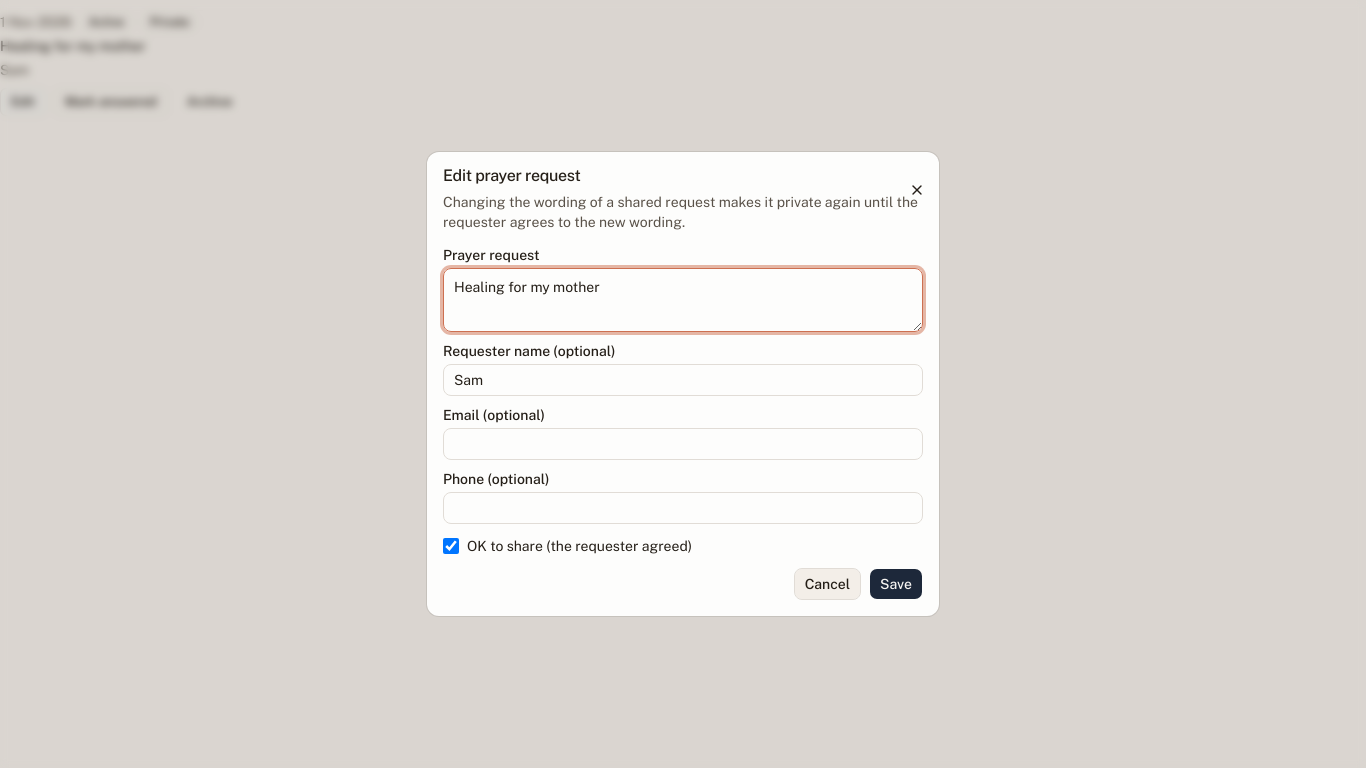
it: PrayerRequestList › submits the revision captured on open, not a newer row prop
Earlier steps of the test are not shown.
Click the button "Save".
click(896, 584)  # box [869,568,923,600]
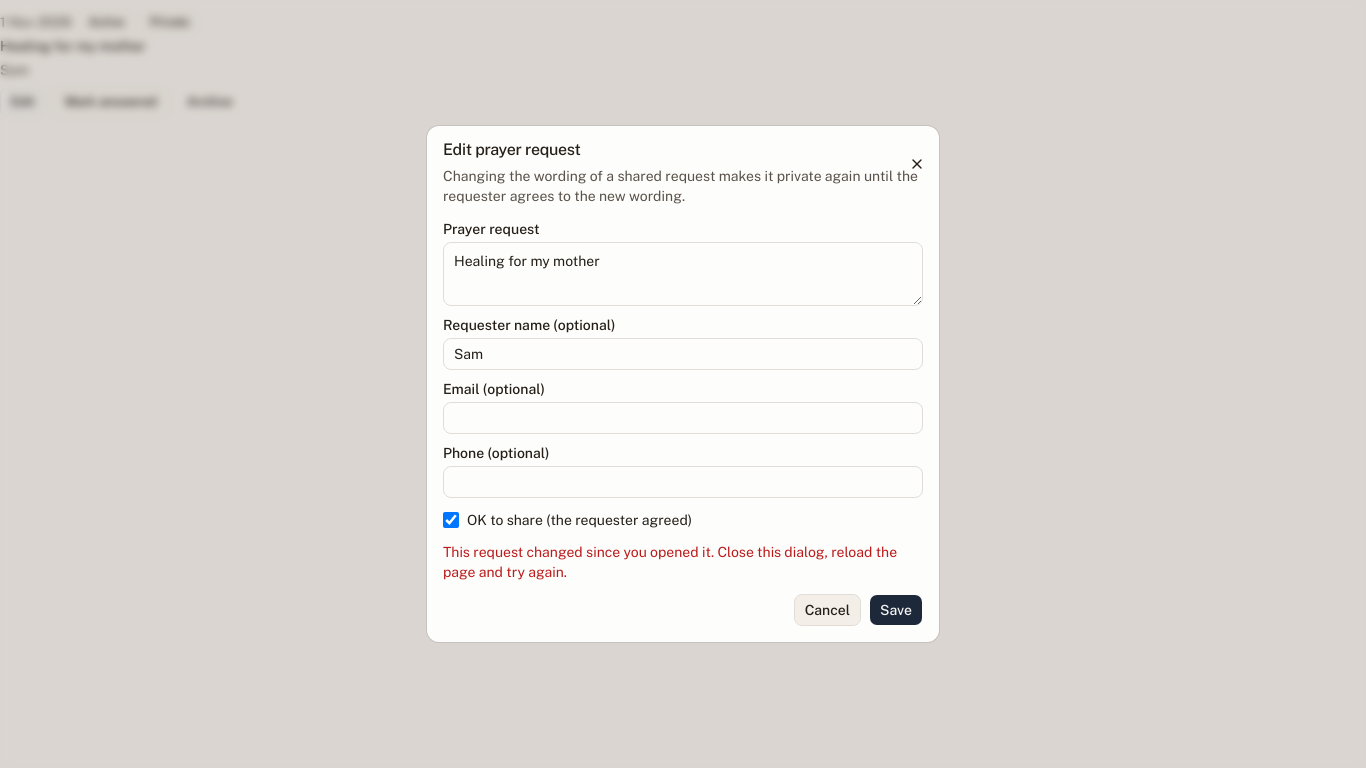
Expected: the dialog is shown, [427,126,939,642]
Result: the message shows "reload the page" at [443,544,897,580]
